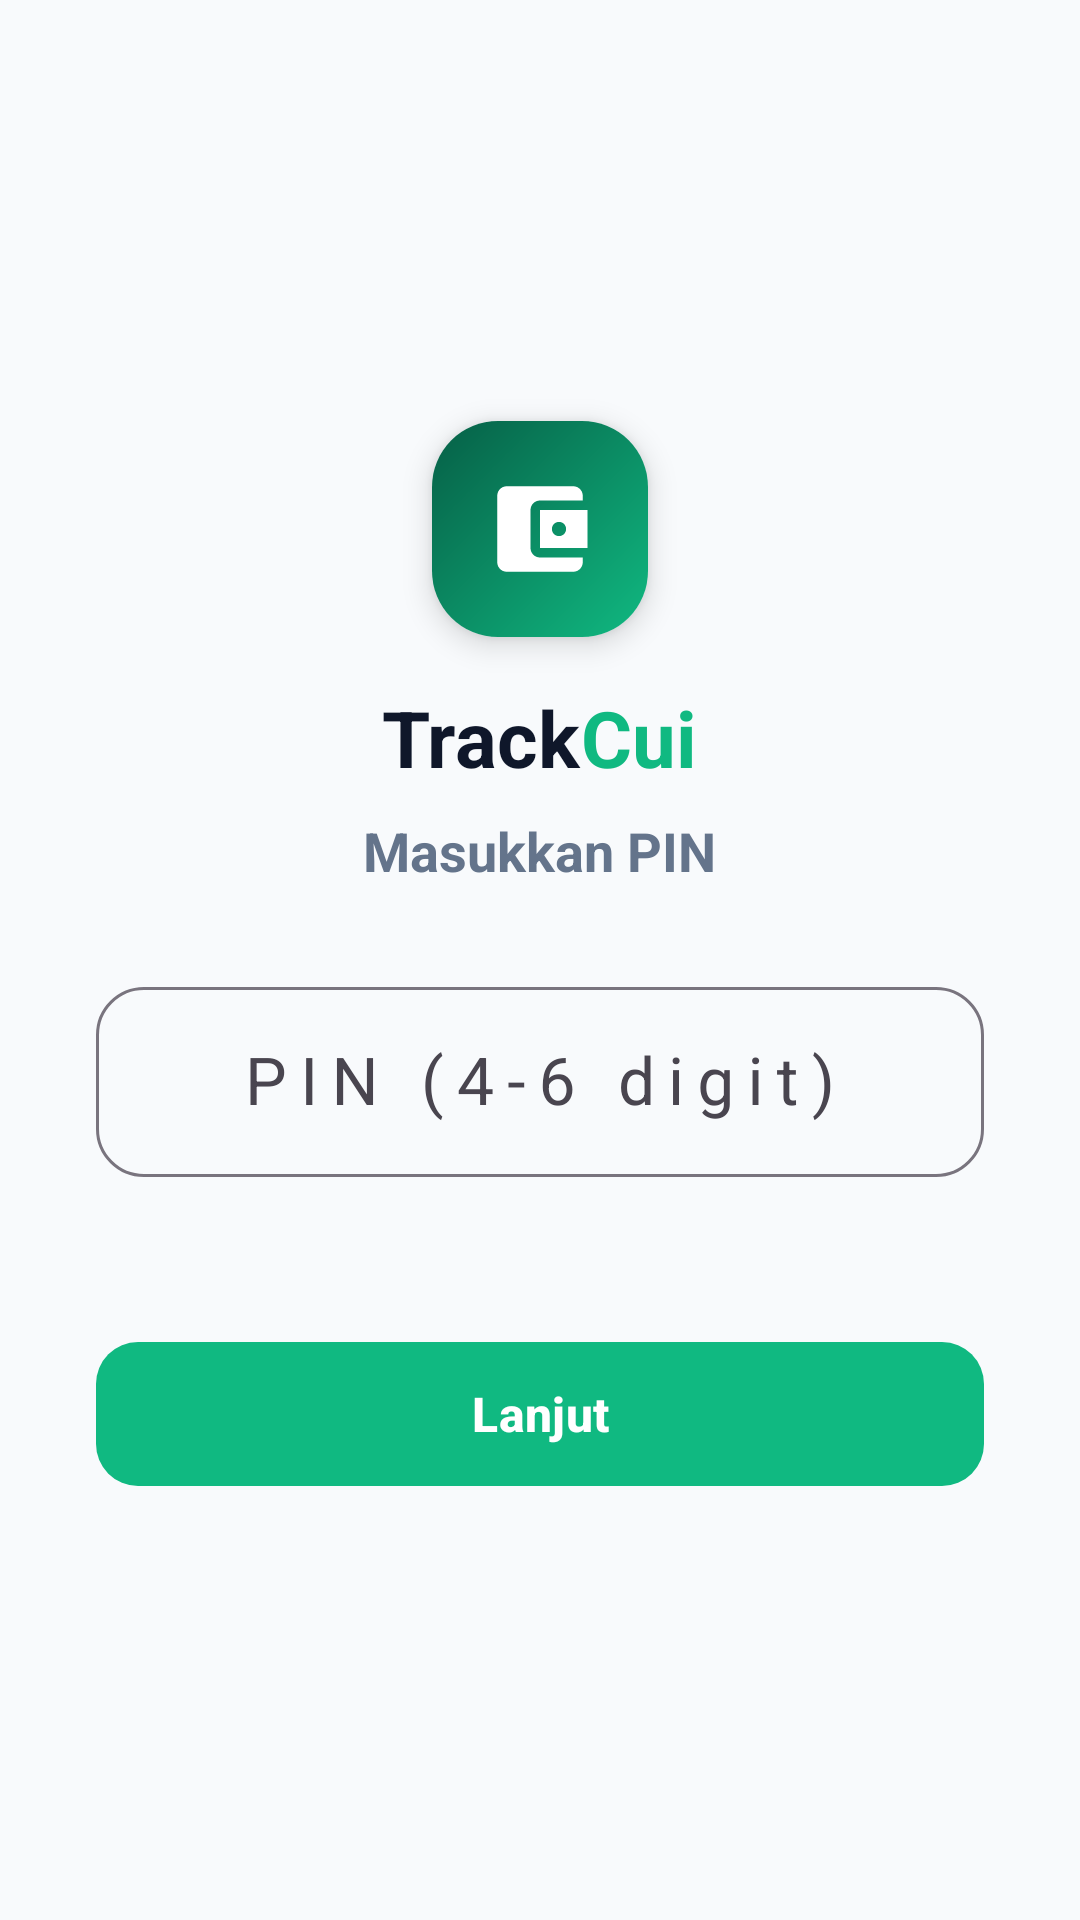

Where icons sit on this 1080×1920 app screen, as [x1, y1, x2, y2]:
wallet: [497, 486, 588, 572]
